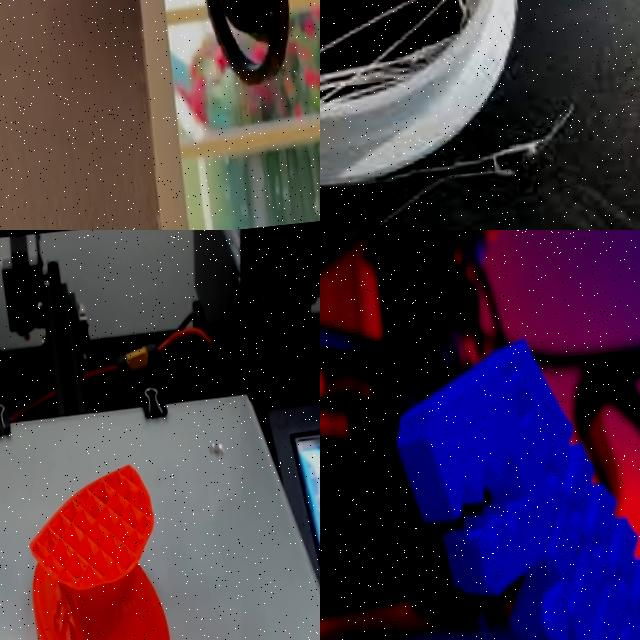spaghetti: (320, 0, 515, 141), (394, 136, 600, 200)
